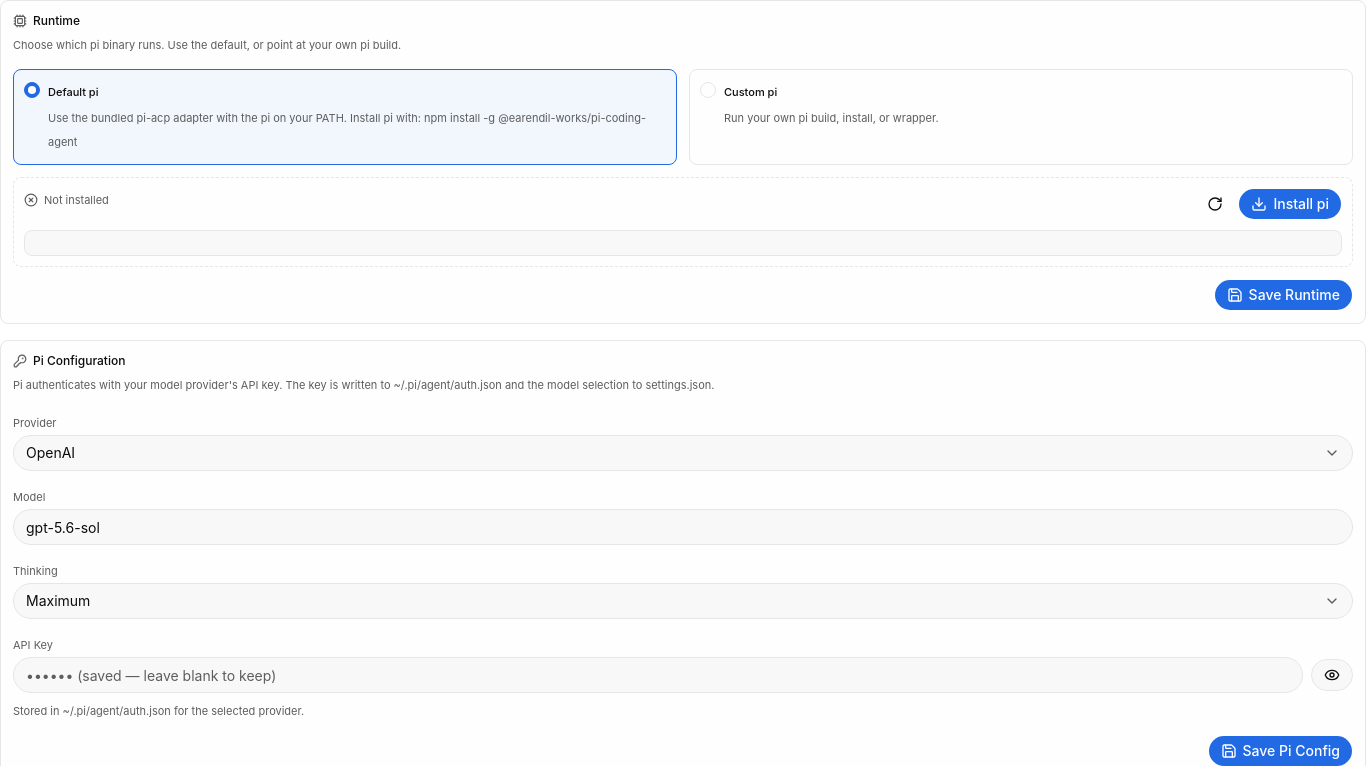
Test: Pi default thinking level › follows the model being typed, whenever Pi's answer arrives
The width and height of the screenshot is (1366, 766).
Replace the text in the field with placeholder "claude-sonnet-5" with "gpt-4" at coordinates (683, 527), box 13,509 -> 1353,545
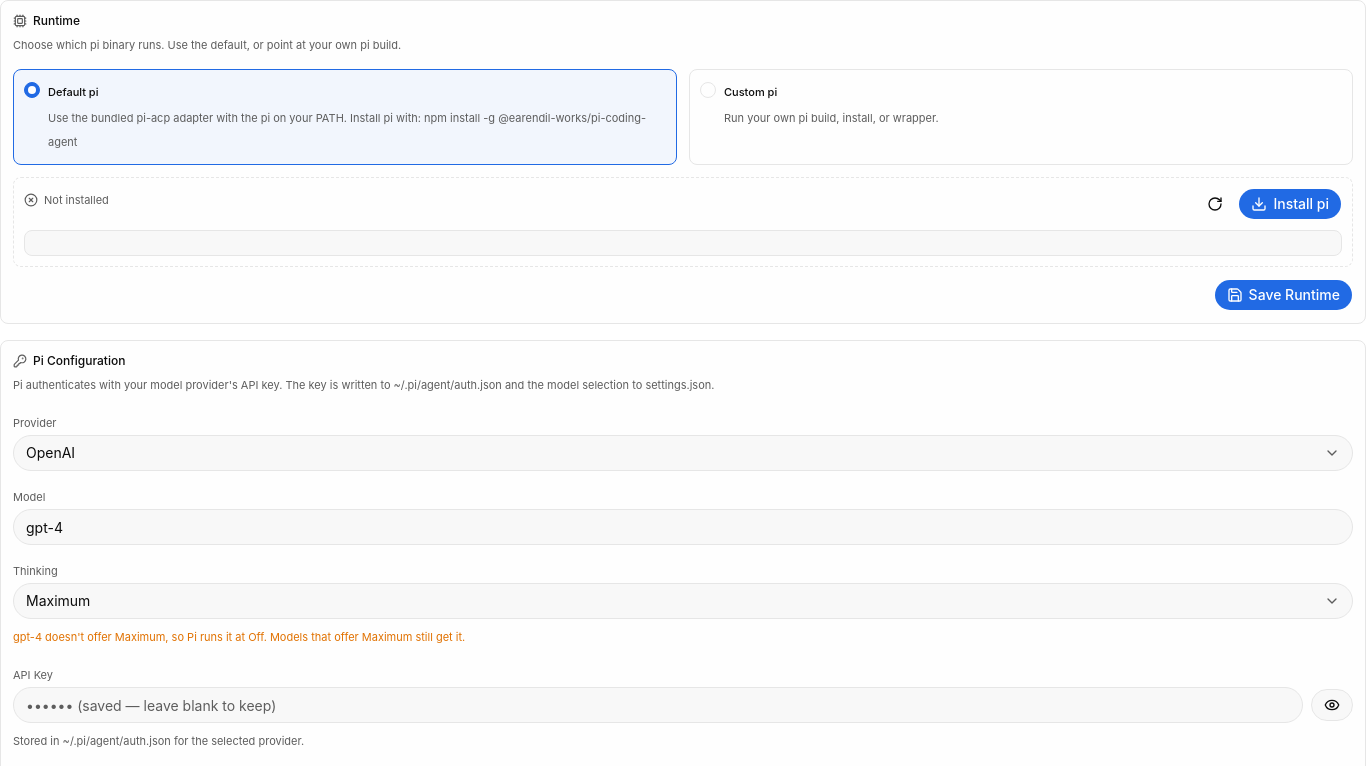
Now the text "gpt-4 doesn't offer Maximum, so Pi runs it at Off. Models that offer Maximum still get it." is shown, box 13,630 -> 465,644
